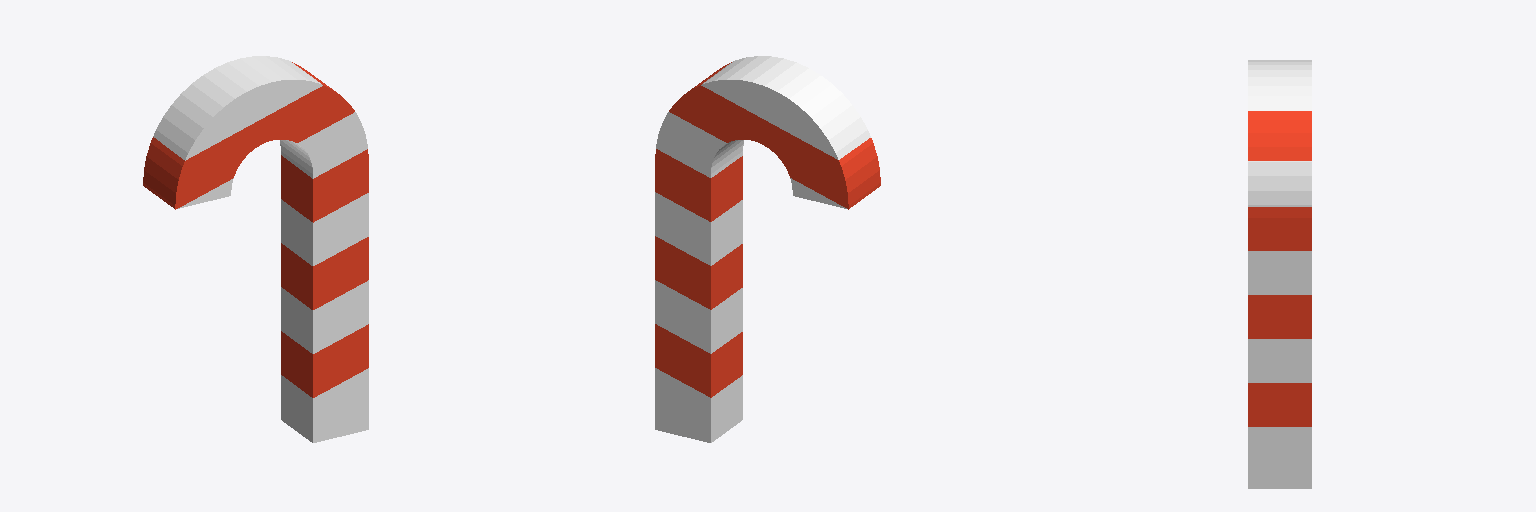
Rendered from candyCane.obj.
3 views of the same model, side by side, from view 1: azimuth 30°, elevation 25°; view 2: azimuth 150°, elevation 25°; view 3: azimuth 270°, elevation 25° (orthographic).
Parts seen in each view (by area): view 1: candyCane; view 2: candyCane; view 3: candyCane.
Boxes of the visible parts, box(x1,y1,x2,y2) form: candyCane: box(143, 56, 368, 442); candyCane: box(655, 56, 880, 442); candyCane: box(1248, 60, 1311, 488).
Bounding box in the file's own units: 0.1383 × 0.2537 × 0.0399.